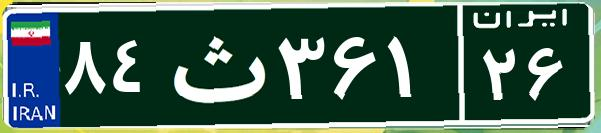1: (385, 28, 445, 110)
2: (475, 38, 525, 113)
3: (273, 28, 330, 110)
4: (110, 28, 158, 105)
6: (330, 28, 385, 110), (525, 38, 570, 115)
8: (57, 26, 110, 107)
ث: (158, 15, 273, 115)
